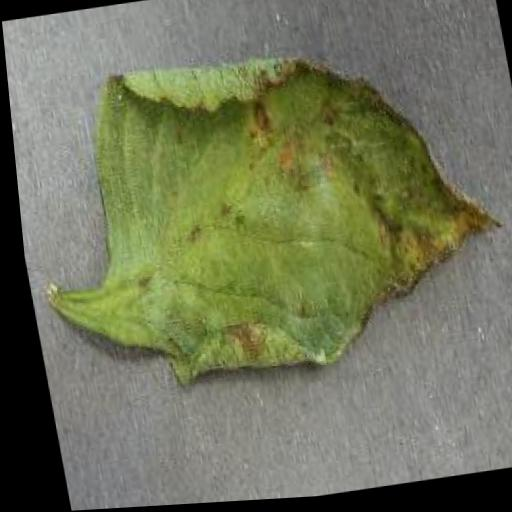Bacterial Spot: (3, 21, 512, 414)
